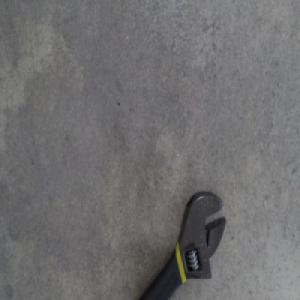AdjustableWrench: (137, 190, 227, 299)
